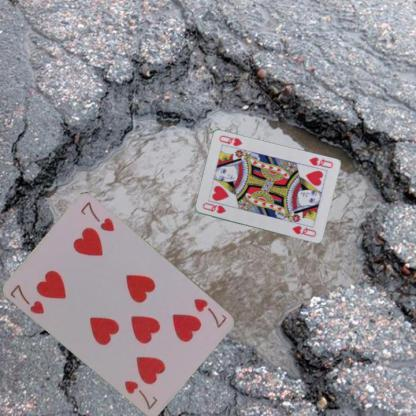7h: (8, 282, 46, 316), (191, 296, 229, 329)
Qh: (306, 155, 334, 170), (200, 200, 227, 215)
